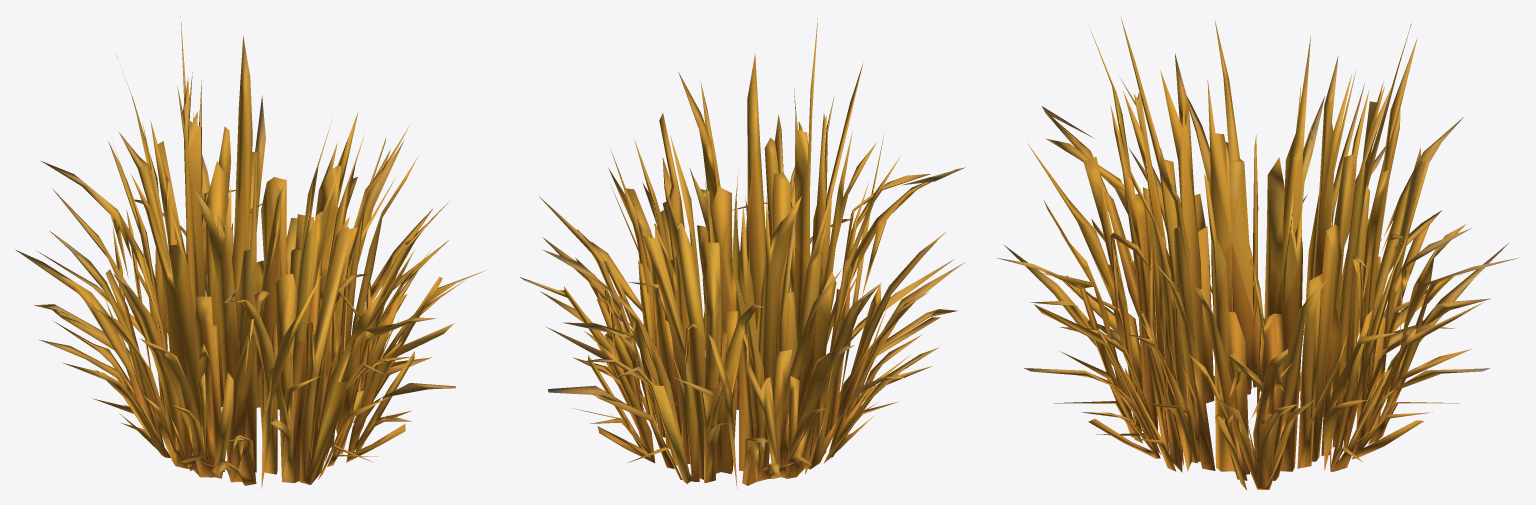
File: gnd_desert_dry_tuft.fbx
3 renders of one model, left to right at view 1: azimuth 30°, elevation 25°; view 2: azimuth 150°, elevation 25°; view 3: azimuth 270°, elevation 25°, orthographic. The views are drawn at different scales.
Parts seen in each view (by area): view 1: gnd_desert_dry_tuft_LOD0; view 2: gnd_desert_dry_tuft_LOD0; view 3: gnd_desert_dry_tuft_LOD0.
Boxes of the visible parts, x1,y1,x2,y2 form: gnd_desert_dry_tuft_LOD0: [16, 16, 488, 488]; gnd_desert_dry_tuft_LOD0: [520, 18, 965, 488]; gnd_desert_dry_tuft_LOD0: [997, 18, 1519, 489].
Size of what is drawn, in the model's own units: 0.8918 by 0.8537 by 0.9742.
